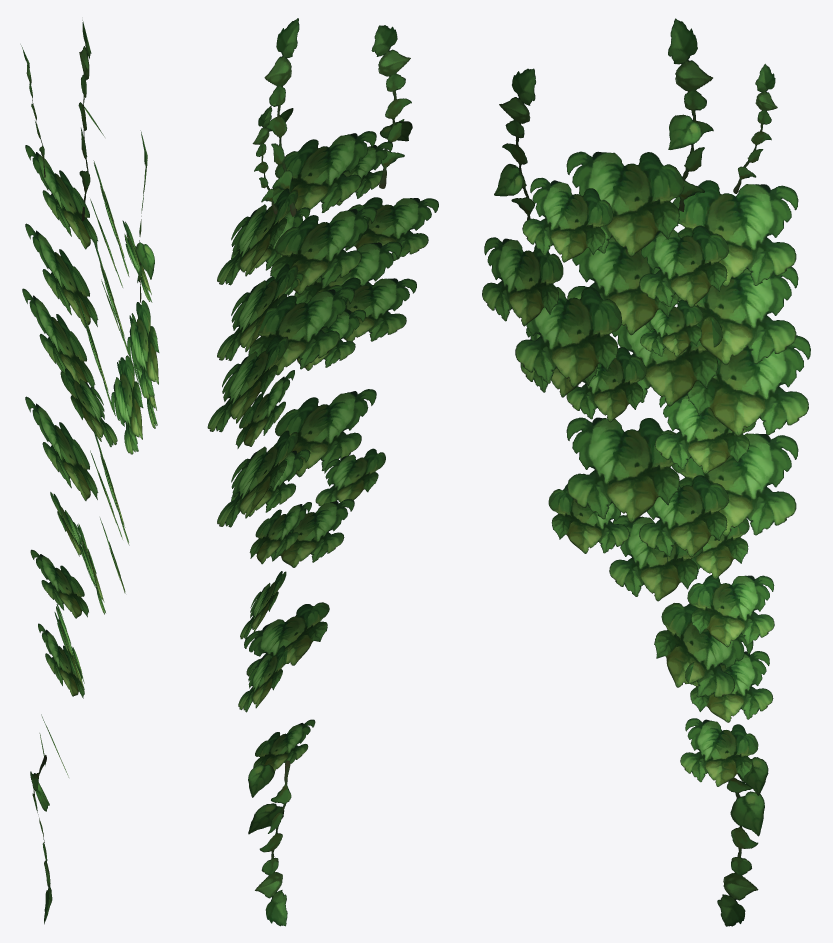
Rendered from MaLuBian_01_yezi_01.FBX.
The picture shows the model from 3 angles, left to right: view 1: azimuth 30°, elevation 25°; view 2: azimuth 150°, elevation 25°; view 3: azimuth 270°, elevation 25°; orthographic projection. The views are drawn at different scales.
Parts seen in each view (by area): view 1: MaLuBian_01_yezi_01; view 2: MaLuBian_01_yezi_01; view 3: MaLuBian_01_yezi_01.
Part boxes in pixels (x1,y1,x2,y2): MaLuBian_01_yezi_01: (20, 20, 159, 924); MaLuBian_01_yezi_01: (207, 18, 438, 926); MaLuBian_01_yezi_01: (482, 18, 810, 926).
Size of the model in its own units: 293 by 2361 by 801.
